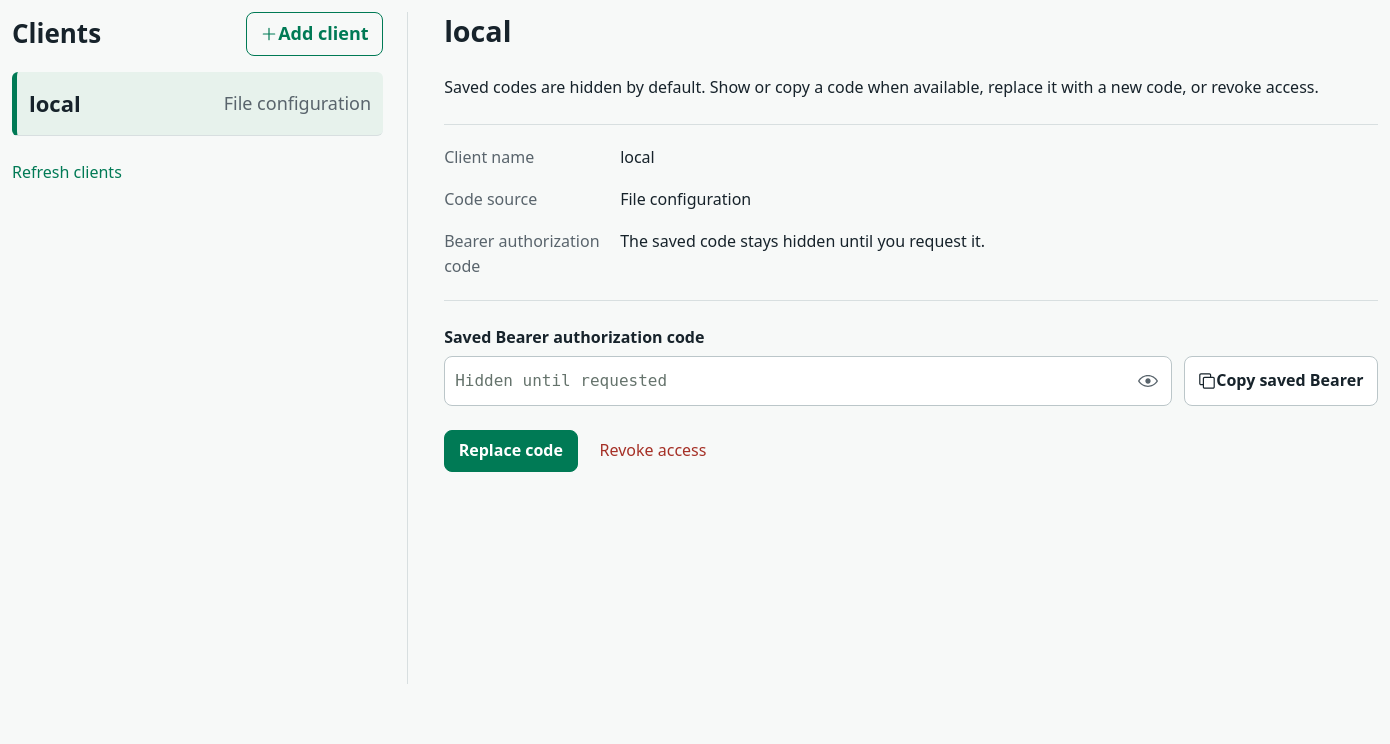
Test case: rejects invalid codes without trimming or sending them (0)
Click the button with aria-label "Replace code for local" at (511, 451), box [444,430,578,472]
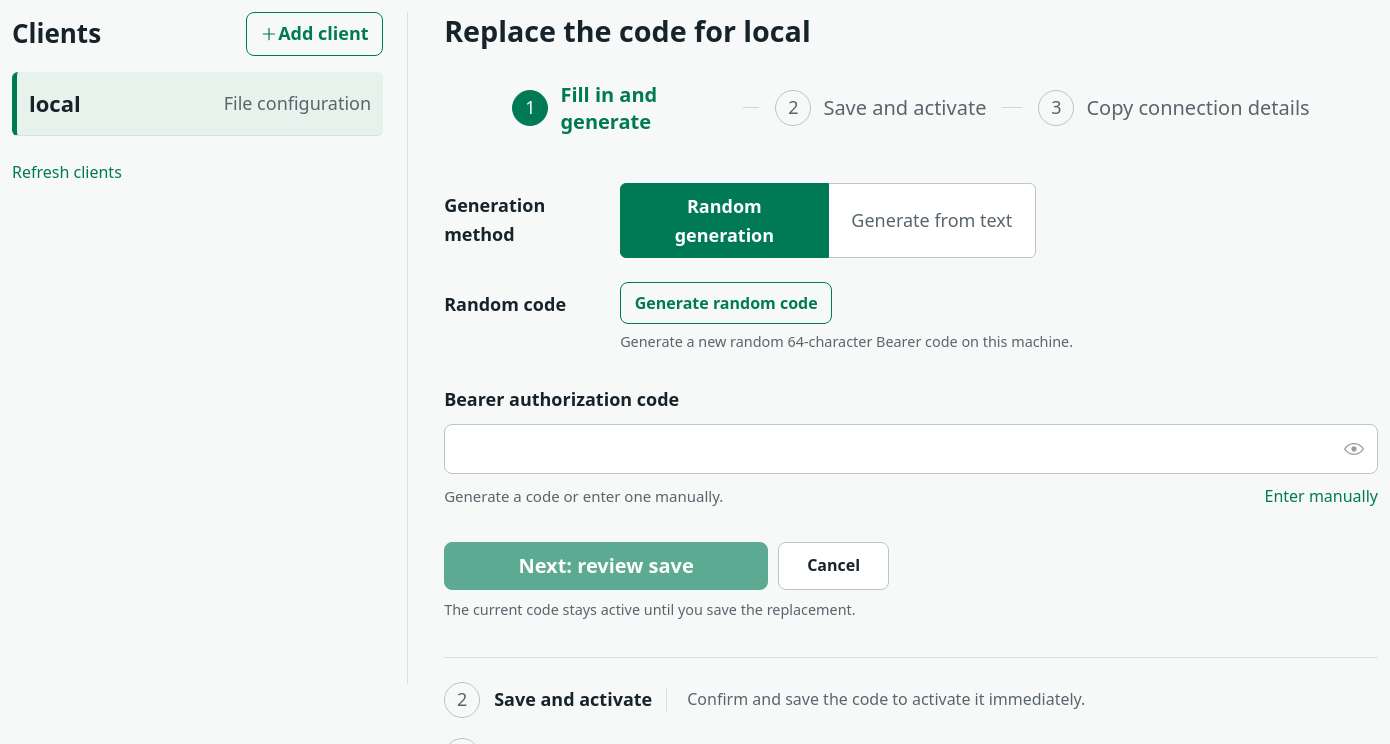
Click the button "Enter manually" at (1321, 497), box [1264,484,1378,510]
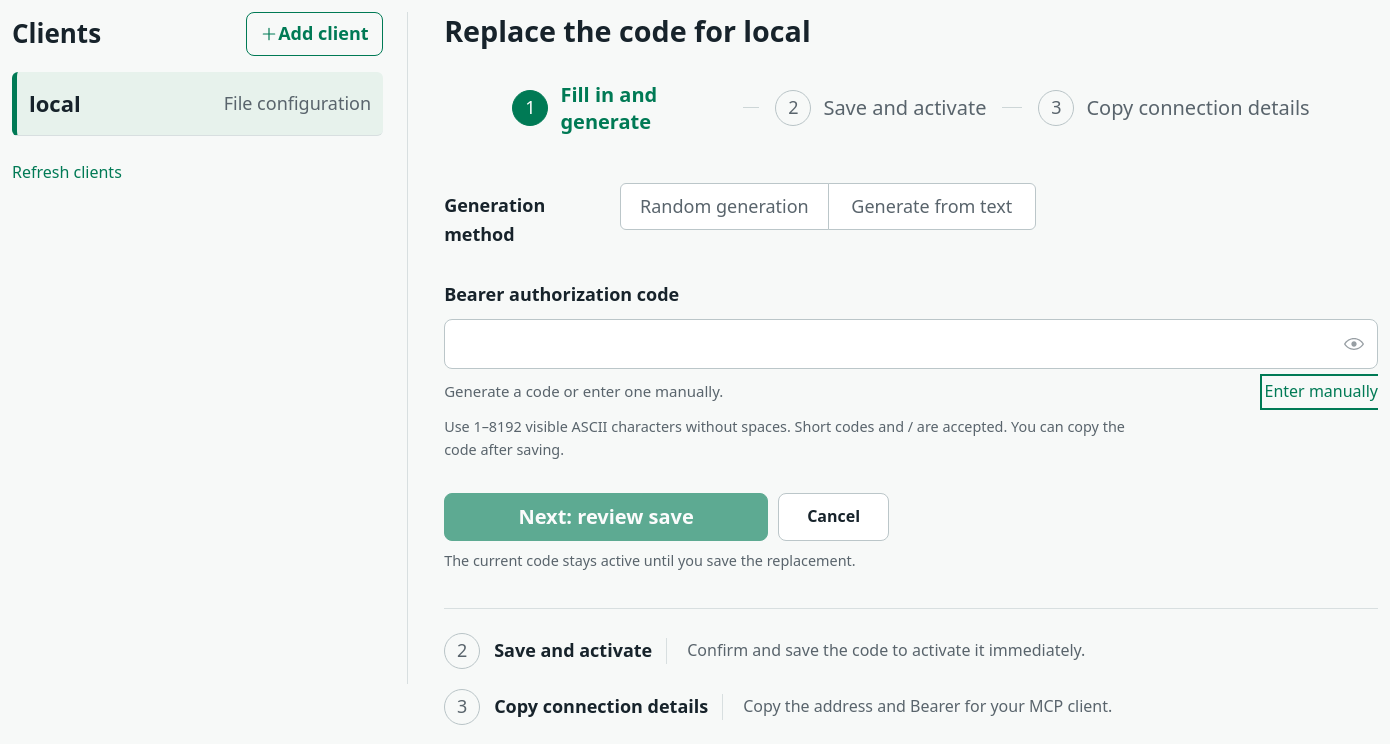
Type " has-space" into the password field labelled "Bearer authorization code" at (911, 344), box [444,319,1378,369]
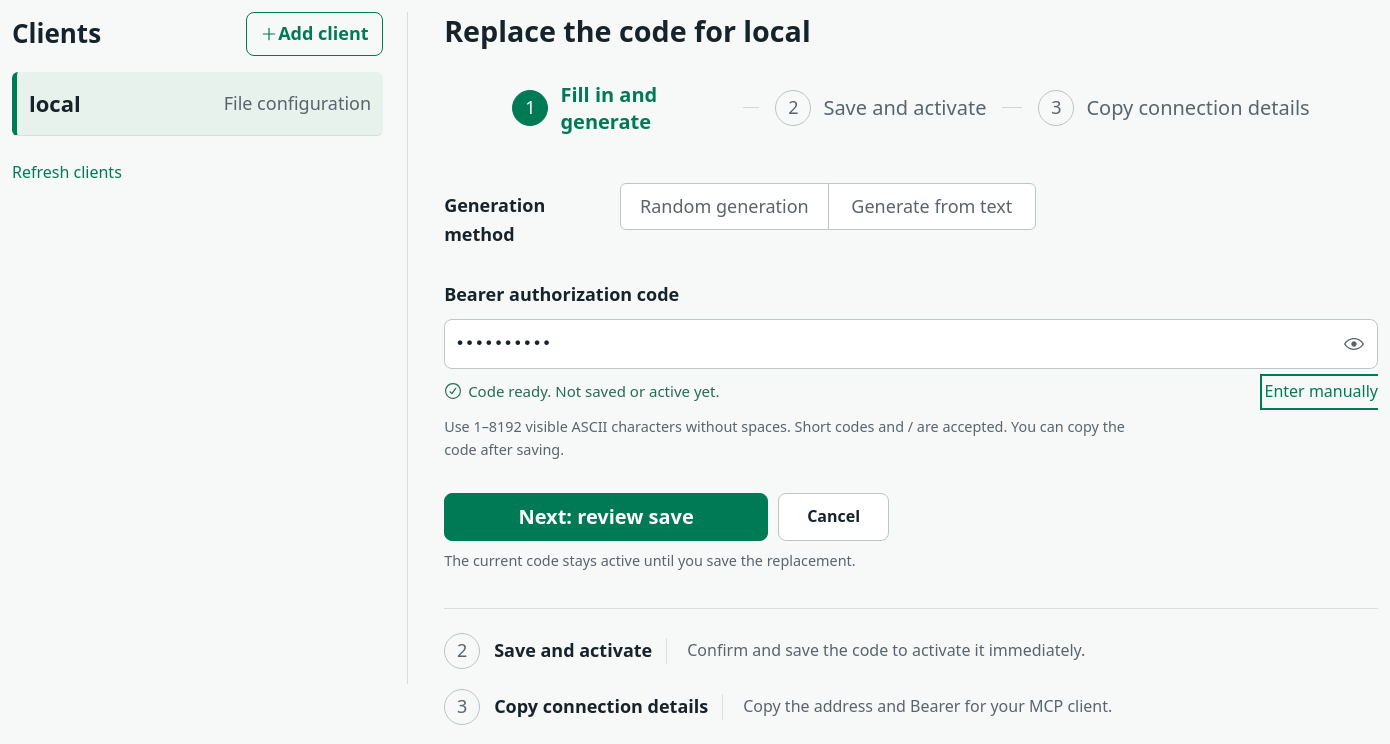
Click the button "Next: review save" at (606, 517), box [444,493,768,541]
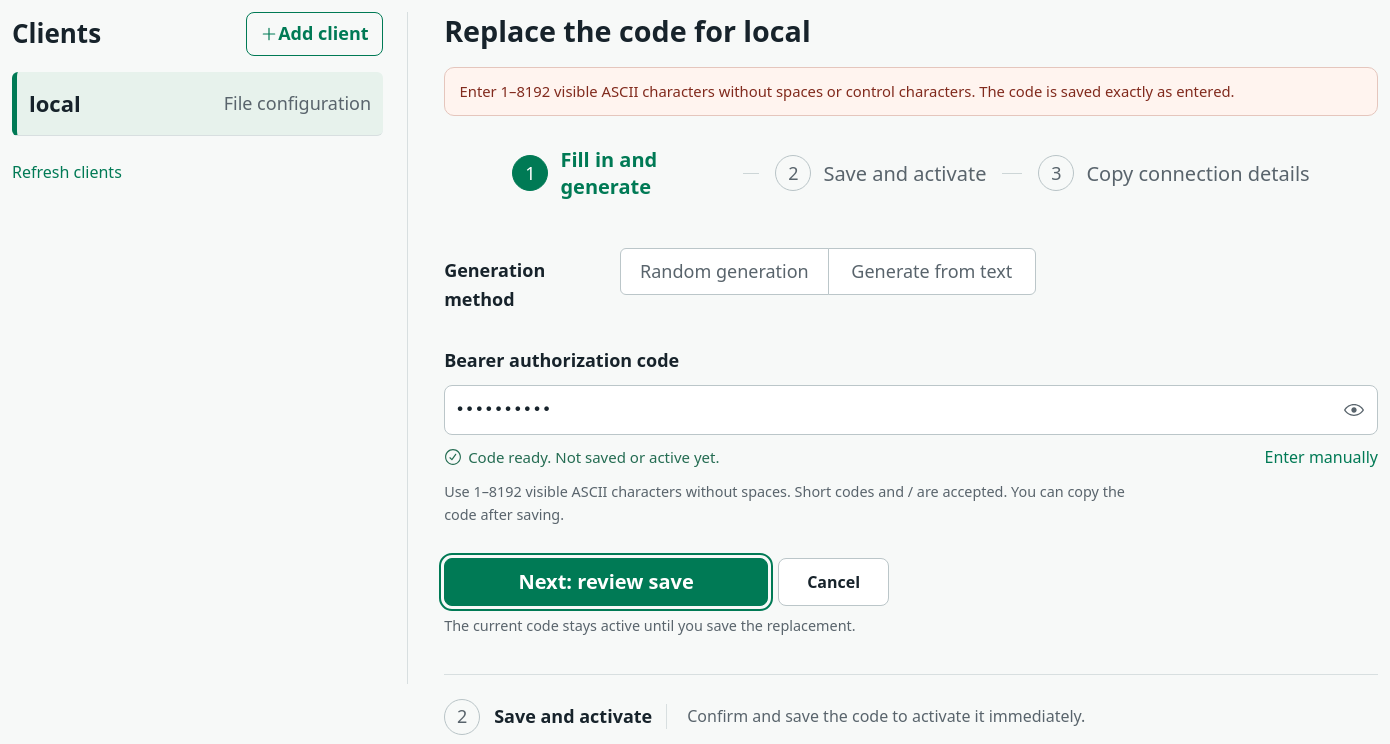
Expected: the 1st message shows "The code is saved exactly as entered.", [460,81,1234,101]
